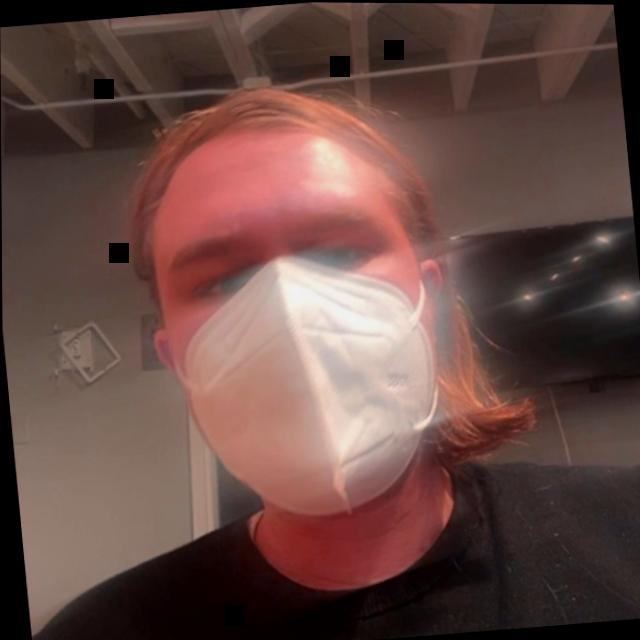Mask: (86, 48, 534, 620)
